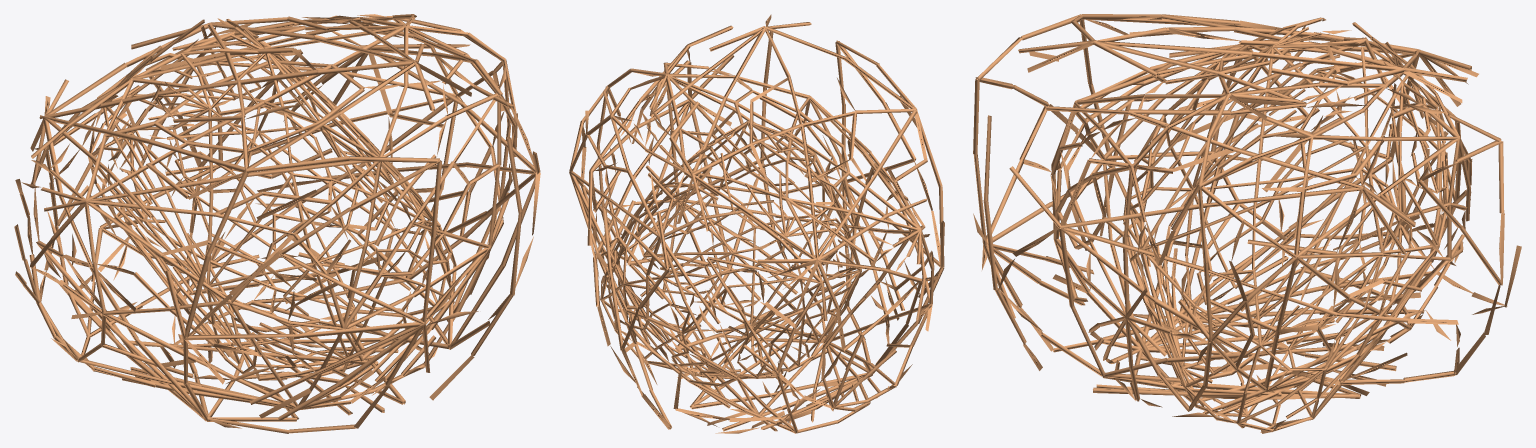
File: Straw.glb
The picture shows the model from 3 angles, left to right: view 1: azimuth 30°, elevation 25°; view 2: azimuth 150°, elevation 25°; view 3: azimuth 270°, elevation 25°; orthographic projection. The views are drawn at different scales.
Parts seen in each view (by area): view 1: Sphere, Sphere.002, Sphere.001; view 2: Sphere, Sphere.002, Sphere.001; view 3: Sphere.002, Sphere, Sphere.001.
Boxes of the visible parts, bbox=[...] form: Sphere: bbox=[14, 14, 517, 410]; Sphere.002: bbox=[30, 16, 540, 433]; Sphere.001: bbox=[88, 18, 456, 380]; Sphere: bbox=[569, 62, 934, 433]; Sphere.002: bbox=[587, 14, 944, 433]; Sphere.001: bbox=[600, 121, 861, 379]; Sphere.002: bbox=[973, 14, 1521, 399]; Sphere: bbox=[1050, 33, 1472, 416]; Sphere.001: bbox=[1123, 17, 1448, 433].
Bounding box in the file's own units: 4.49 × 3.54 × 4.61.
